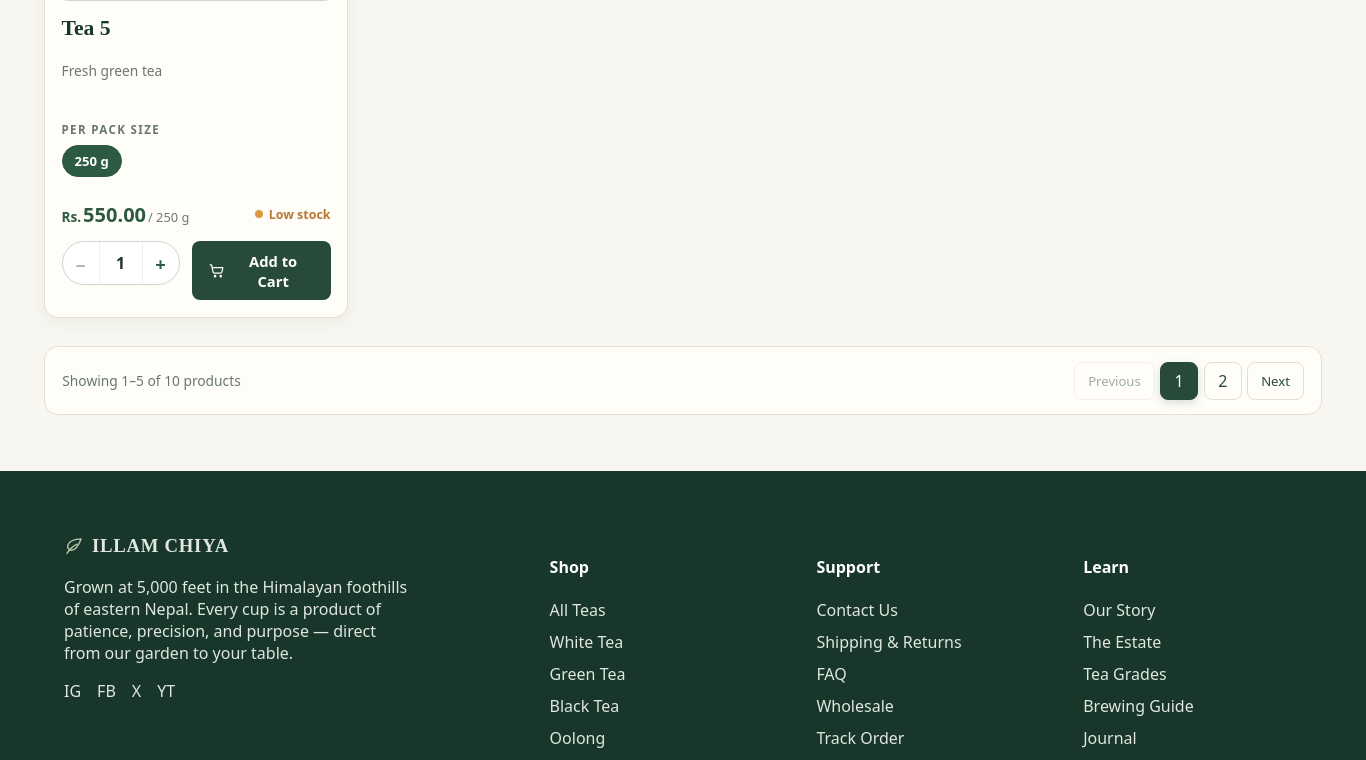
Test: paginates product results in groups of five
This screenshot has width=1366, height=760.
(page scrolled)
Expected: the heading "Tea 5" is shown, [62, 16, 110, 40]
Expected: the text "Showing 1–5 of 10 products" is shown, [62, 371, 241, 390]
Step 1. Click the button named "Go to page 2" → [1223, 381], box [1204, 362, 1242, 400]
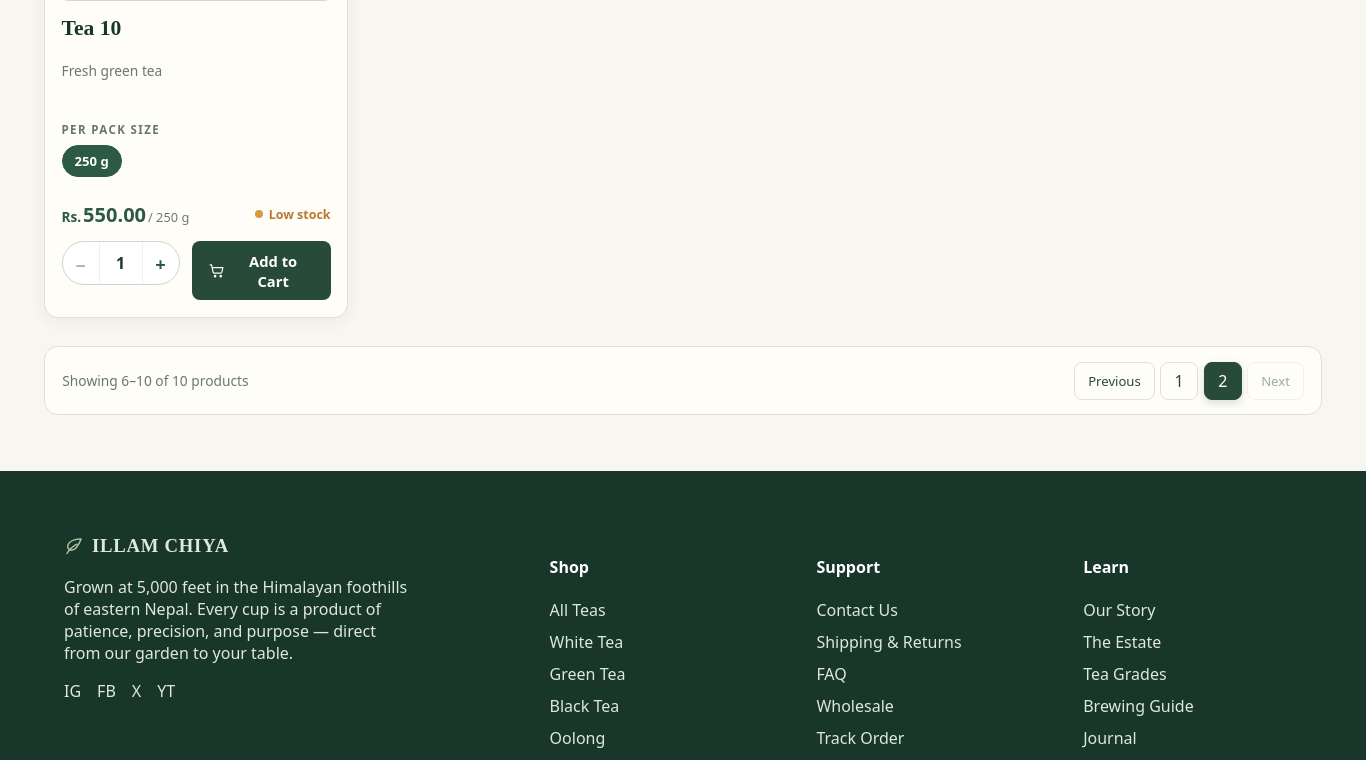
Now the heading "Tea 10" is shown, box [62, 16, 121, 40]
Now the text "Showing 6–10 of 10 products" is shown, box [62, 371, 249, 390]
